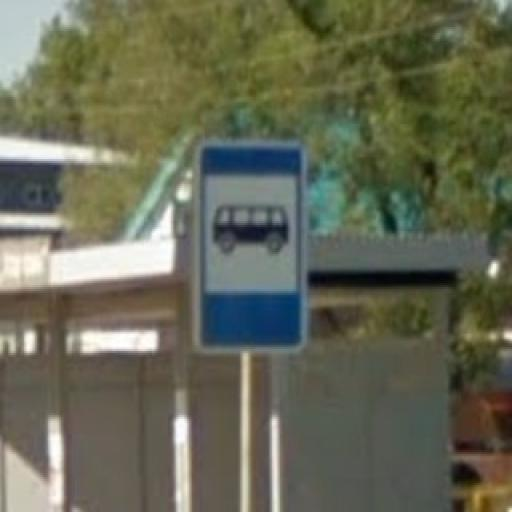traffic_sign: (193, 137, 310, 356)
